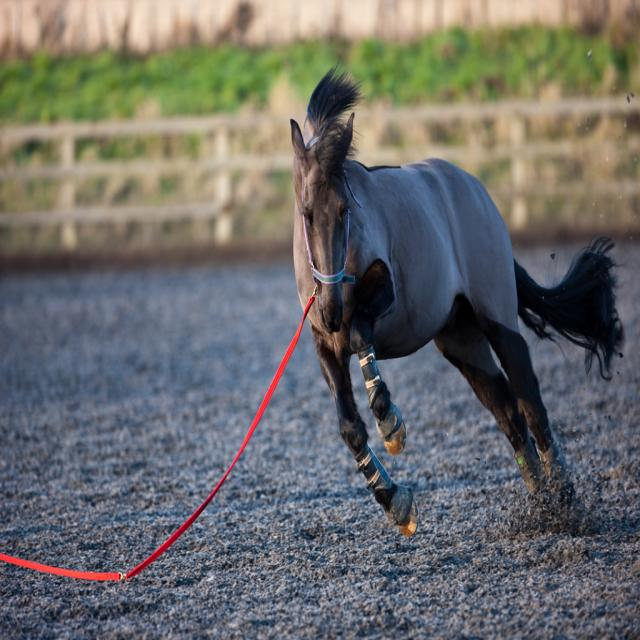Horse: (290, 63, 626, 537)
